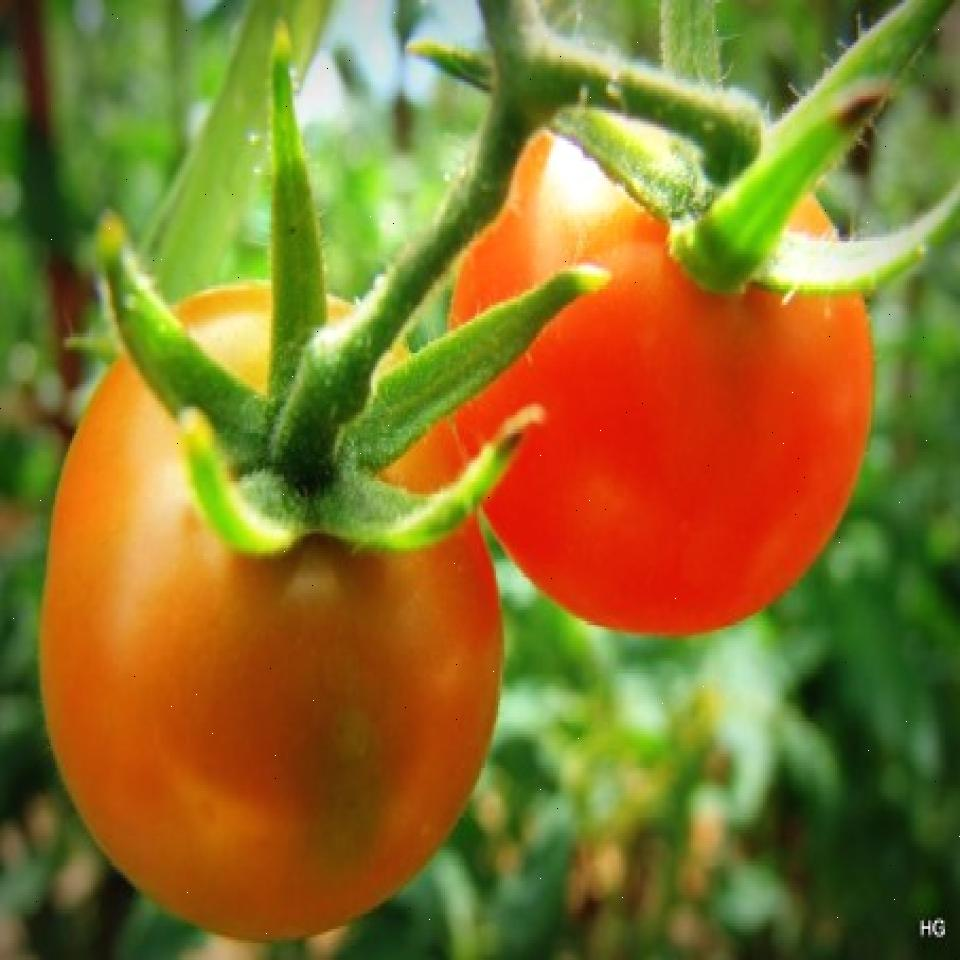Healthy: (59, 246, 516, 946), (480, 104, 884, 650)
